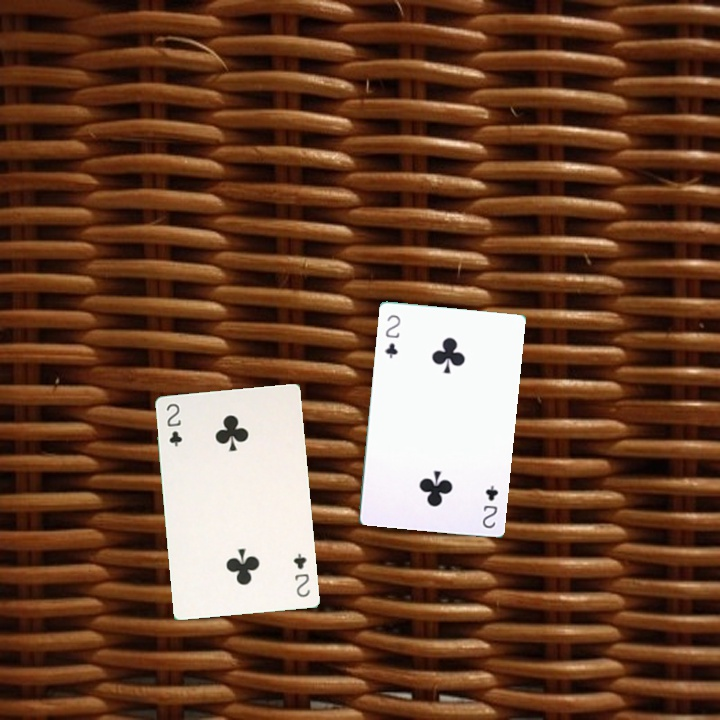2c: (380, 311, 403, 361), (478, 481, 501, 531), (162, 399, 185, 449), (290, 549, 312, 600)
